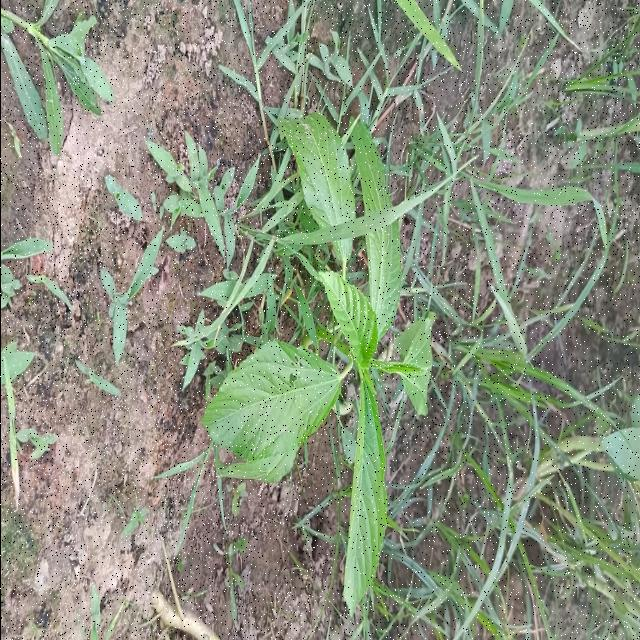plant: (319, 221, 431, 614), (202, 339, 341, 480), (281, 114, 355, 230), (351, 123, 389, 214), (333, 239, 351, 264)
